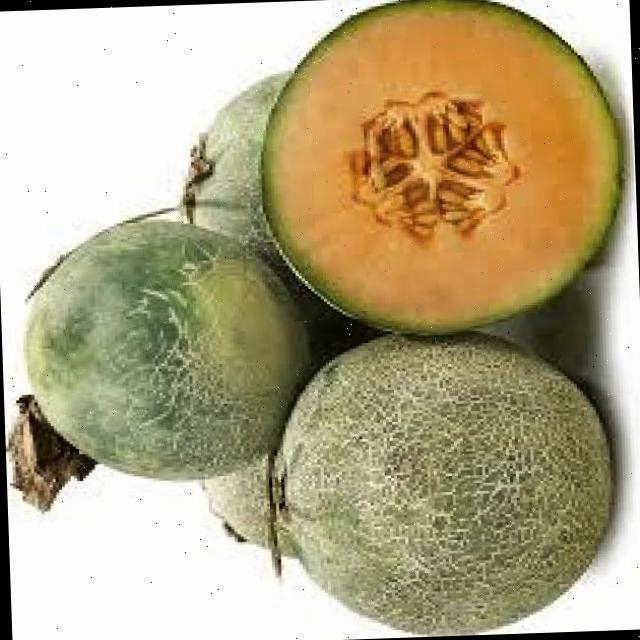Hami Melon: (252, 0, 627, 337), (271, 321, 622, 640), (19, 210, 308, 486)
